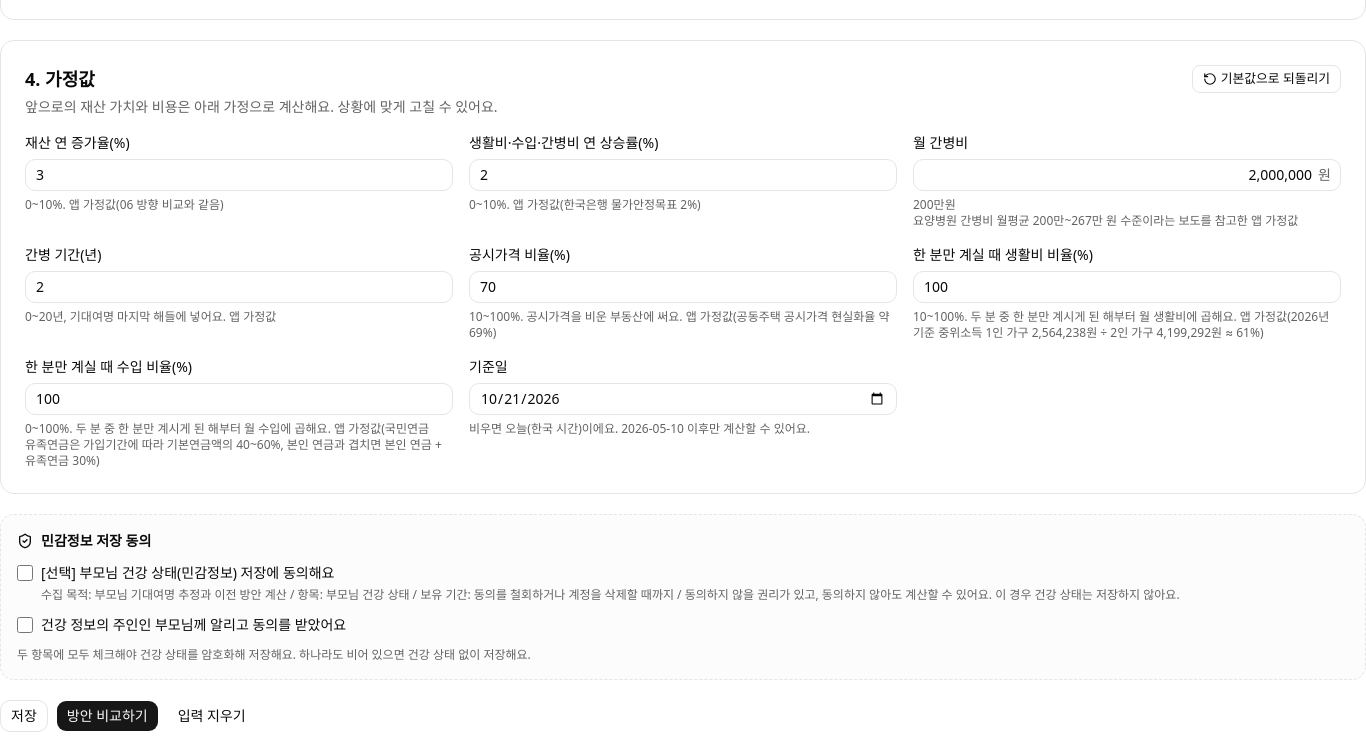
Scenario: 입력 › 서버 검증 오류를 해당 칸에 보여 준다
The width and height of the screenshot is (1366, 752).
(page scrolled)
Click the button "방안 비교하기".
click(107, 716)  # box [56,700,159,732]
(page scrolled)
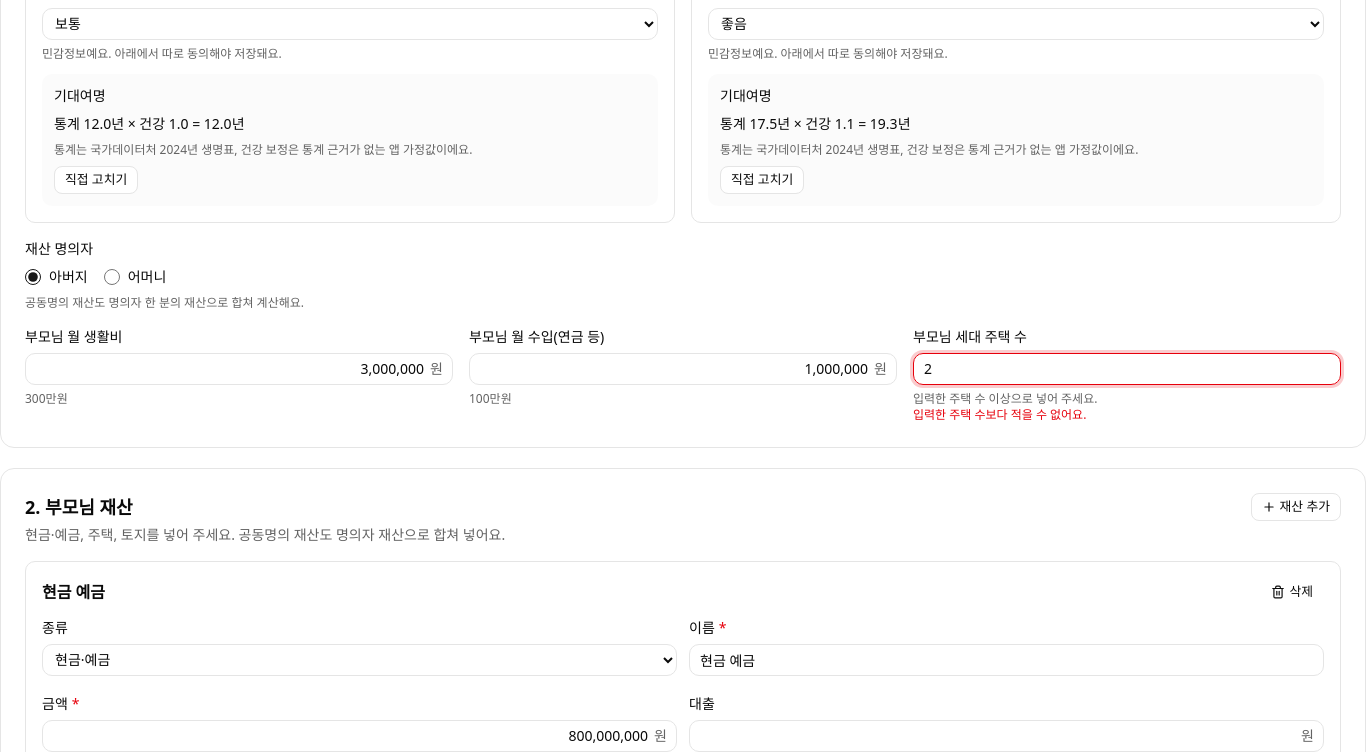
Now the text "입력한 주택 수보다 적을 수 없어요." is shown, box [913,406,1086,422]
